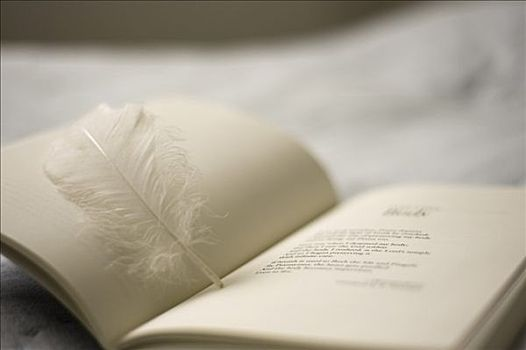book: (0, 92, 526, 350)
